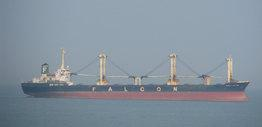Cargoship: (19, 41, 251, 103)
